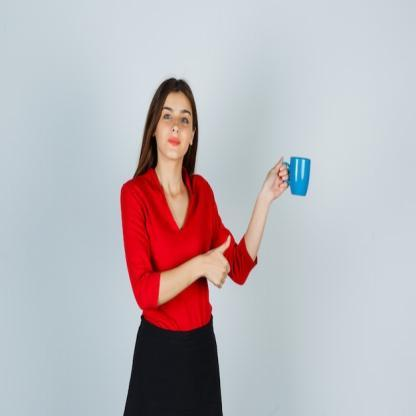thumb_up: (196, 232, 234, 291)
